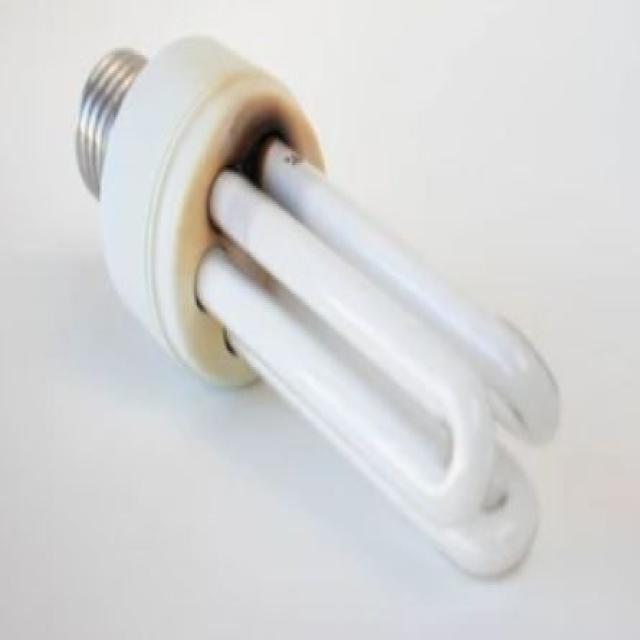electronic: (73, 30, 561, 578), (73, 30, 325, 390)
